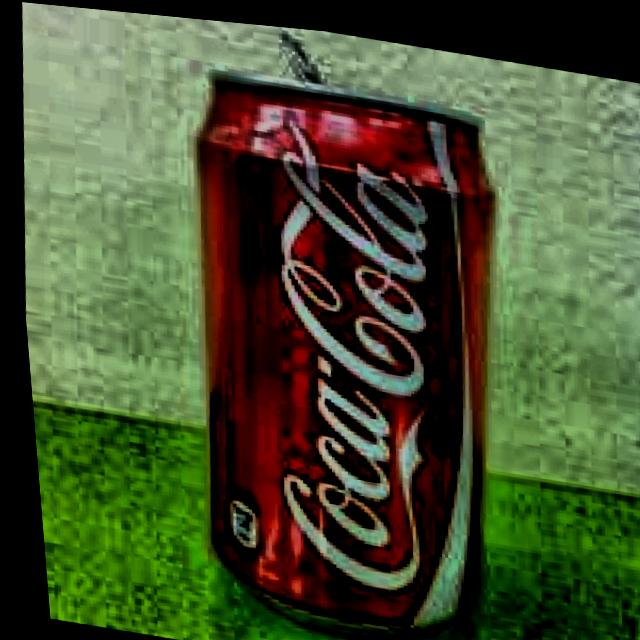Cans: (142, 11, 537, 640)
